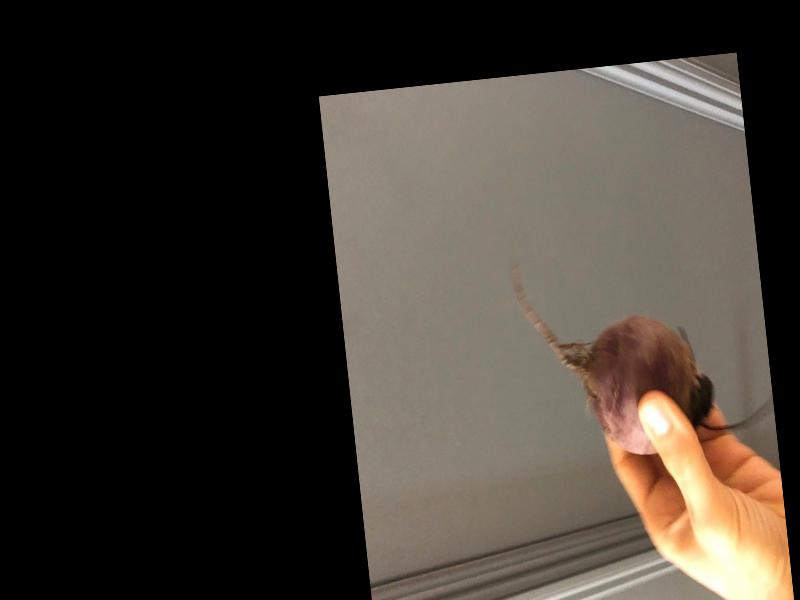Beet: (509, 232, 777, 466)
